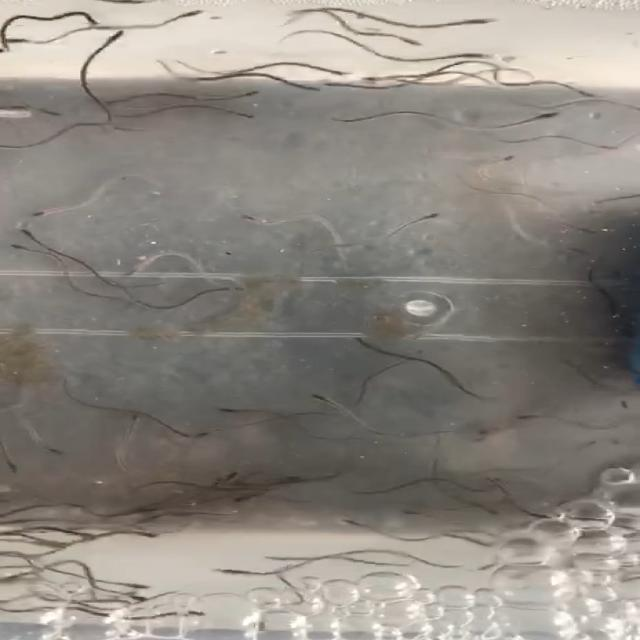active_glass_eel: (209, 204, 271, 232), (12, 201, 75, 223), (210, 105, 270, 128), (155, 7, 217, 26), (450, 12, 506, 33), (381, 28, 430, 52), (306, 62, 359, 84), (396, 206, 451, 227), (209, 563, 267, 582), (507, 407, 548, 433), (481, 148, 530, 169), (225, 86, 270, 107), (550, 238, 596, 258), (69, 518, 102, 545), (152, 605, 211, 620), (331, 514, 369, 537), (59, 10, 102, 30), (313, 78, 356, 98), (452, 49, 501, 66), (470, 501, 508, 522), (346, 333, 382, 355), (113, 264, 156, 282), (34, 437, 66, 460), (299, 392, 337, 411), (138, 525, 176, 544), (572, 85, 612, 103), (209, 469, 251, 486), (1, 458, 38, 477), (112, 580, 170, 592), (531, 107, 567, 126), (532, 505, 570, 523), (212, 404, 260, 418), (391, 506, 432, 522), (8, 226, 48, 242), (101, 26, 137, 43), (131, 505, 178, 518), (353, 71, 391, 87), (222, 492, 260, 508), (114, 587, 157, 601), (121, 411, 158, 426), (43, 539, 77, 555), (0, 241, 35, 255), (467, 485, 500, 498), (185, 430, 222, 441)
